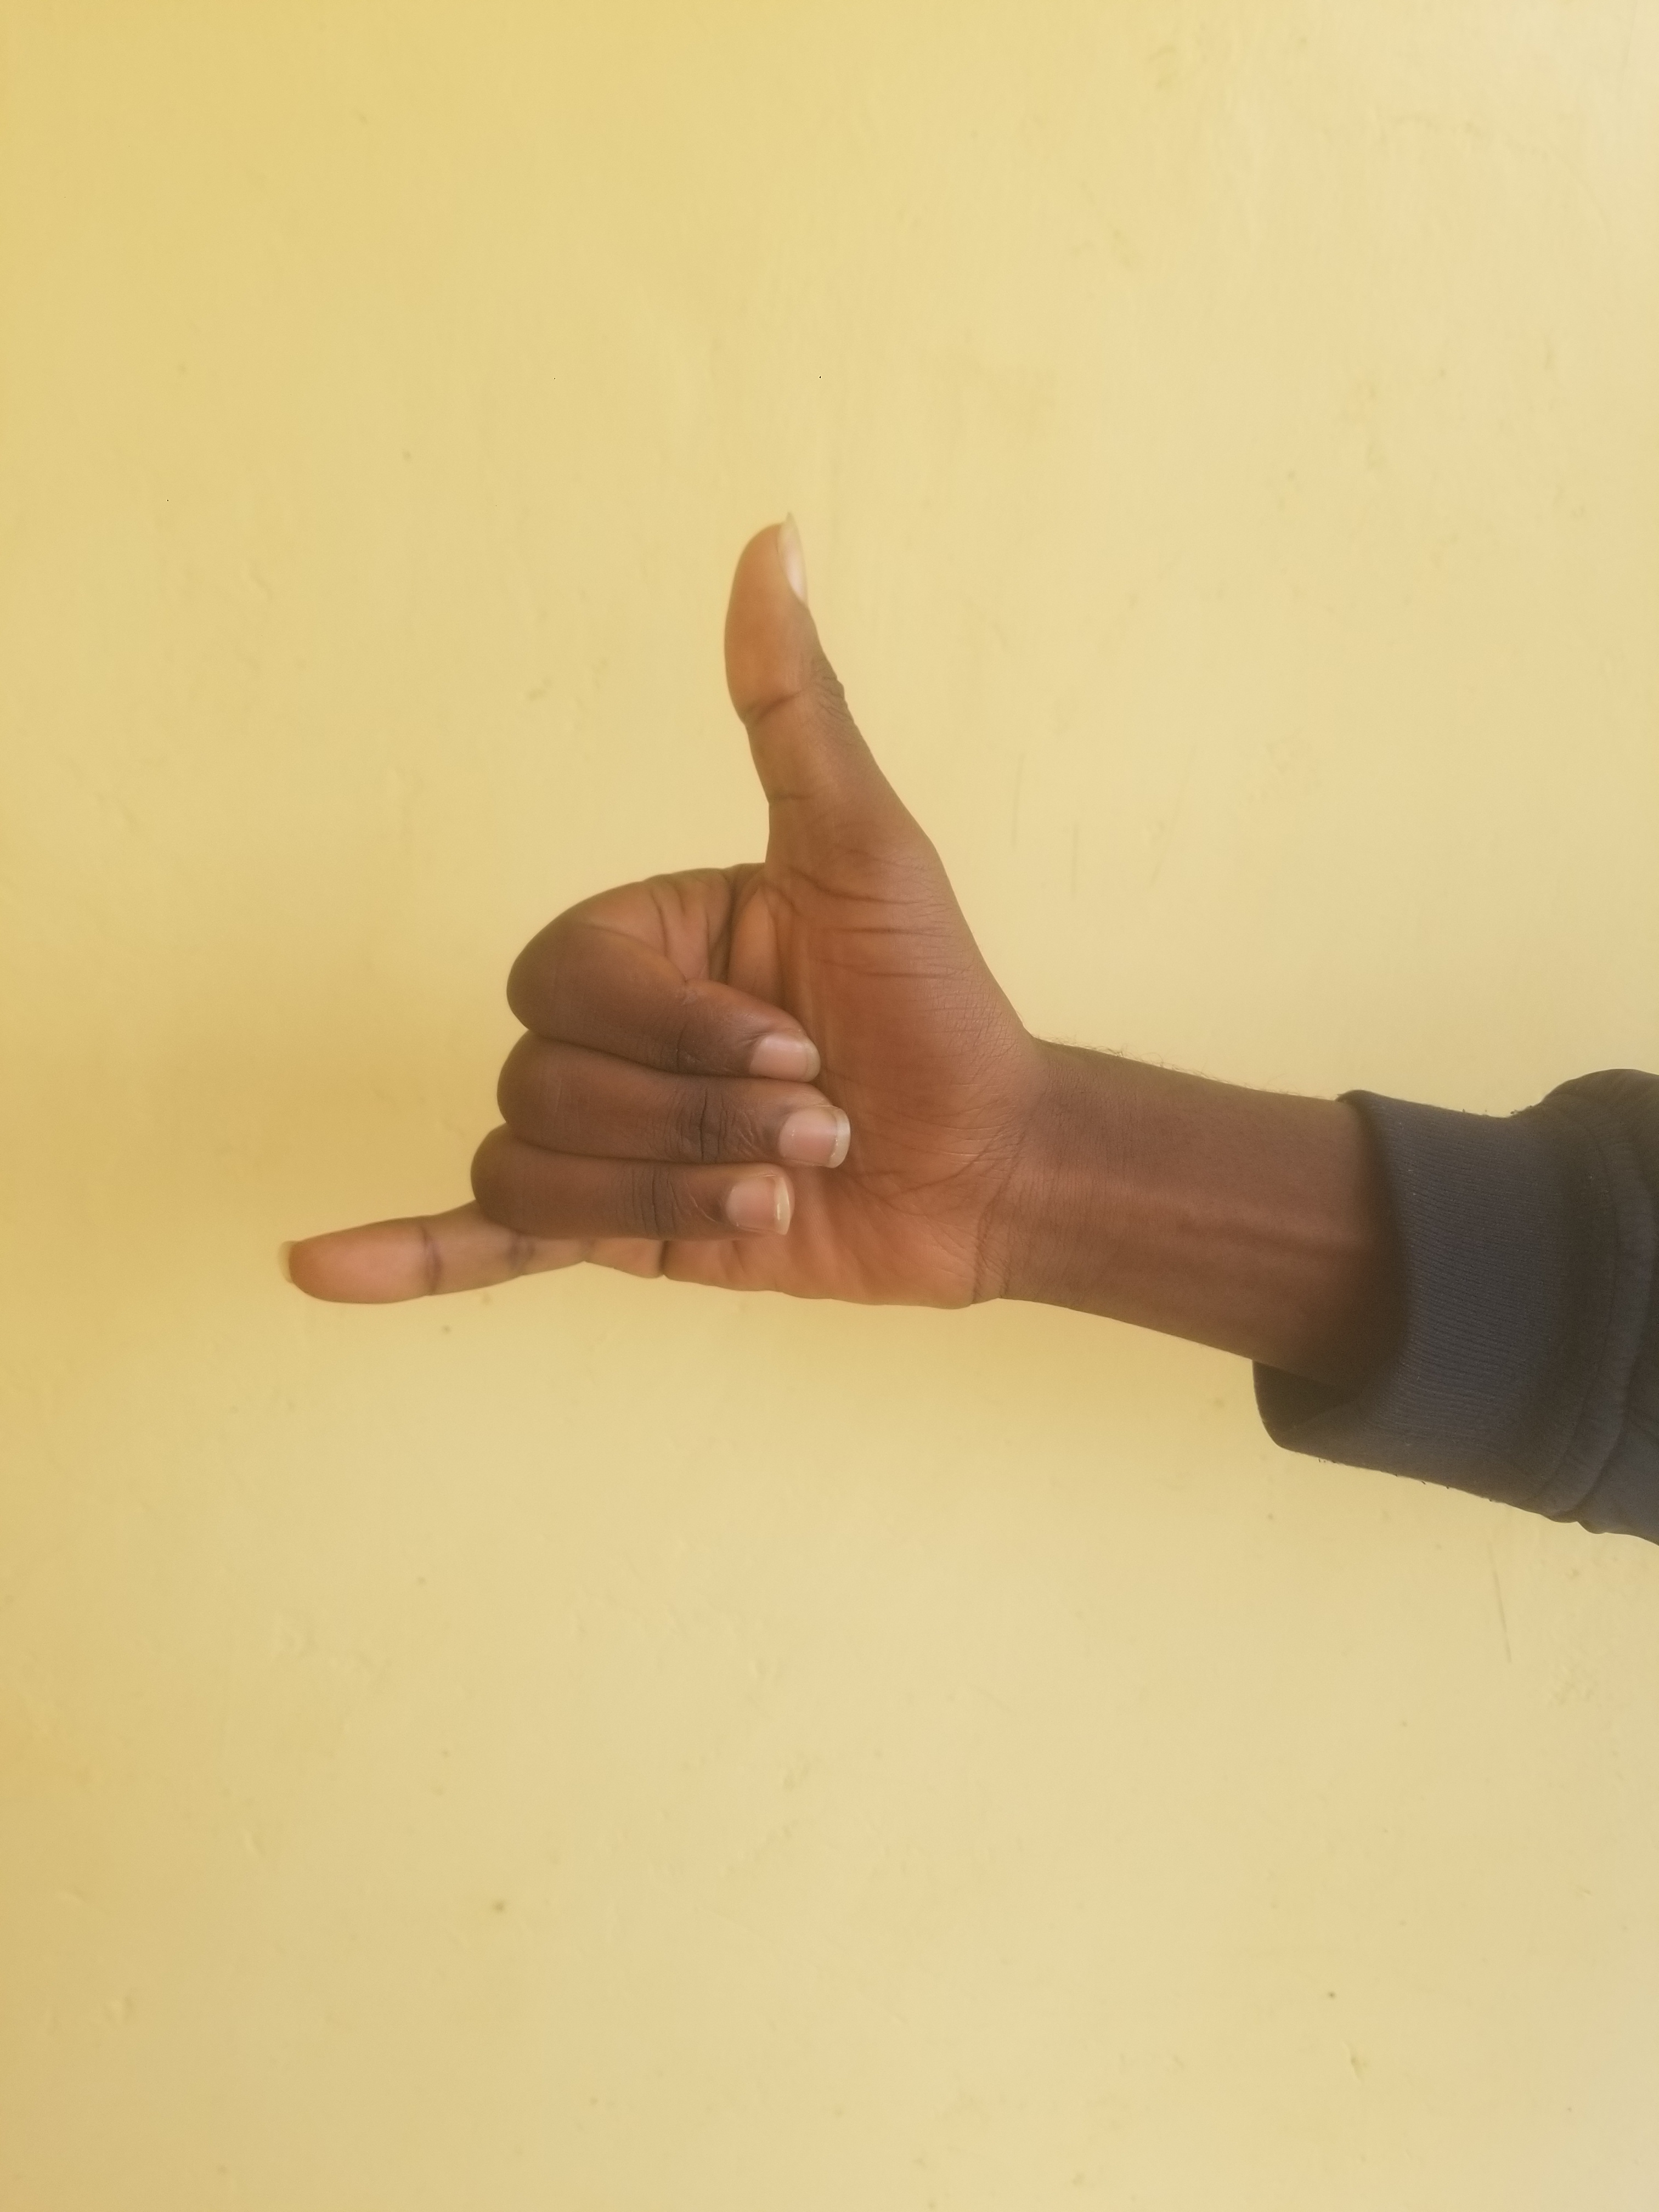call: (227, 341, 1304, 1723)
